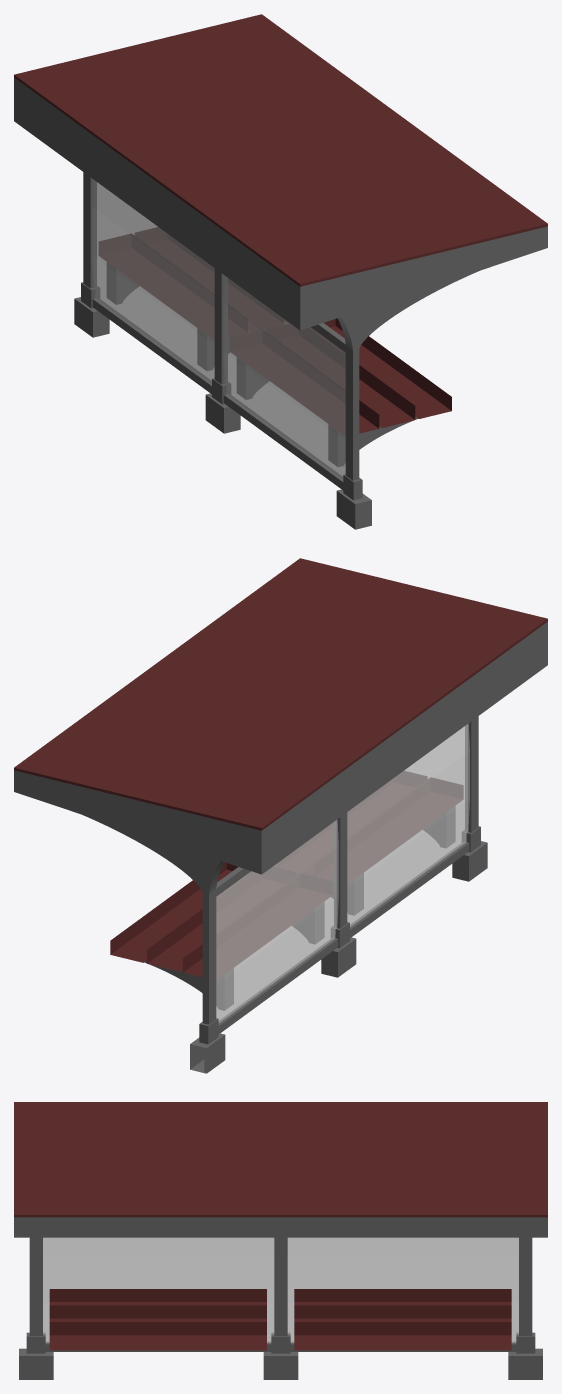
Rendered from bus stop.fbx.
3 renders of one model, top to bottom at view 1: azimuth 30°, elevation 25°; view 2: azimuth 150°, elevation 25°; view 3: azimuth 270°, elevation 25°, orthographic. The views are drawn at different scales.
Parts seen in each view (by area): view 1: Plane.001; view 2: Plane.001; view 3: Plane.001.
Boxes of the visible parts, left/top/right/bottom form: Plane.001: left=14, top=14, right=547, bottom=529; Plane.001: left=14, top=558, right=547, bottom=1073; Plane.001: left=14, top=1102, right=547, bottom=1379.
Size of the model in its own units: 600 by 605 by 1200.
